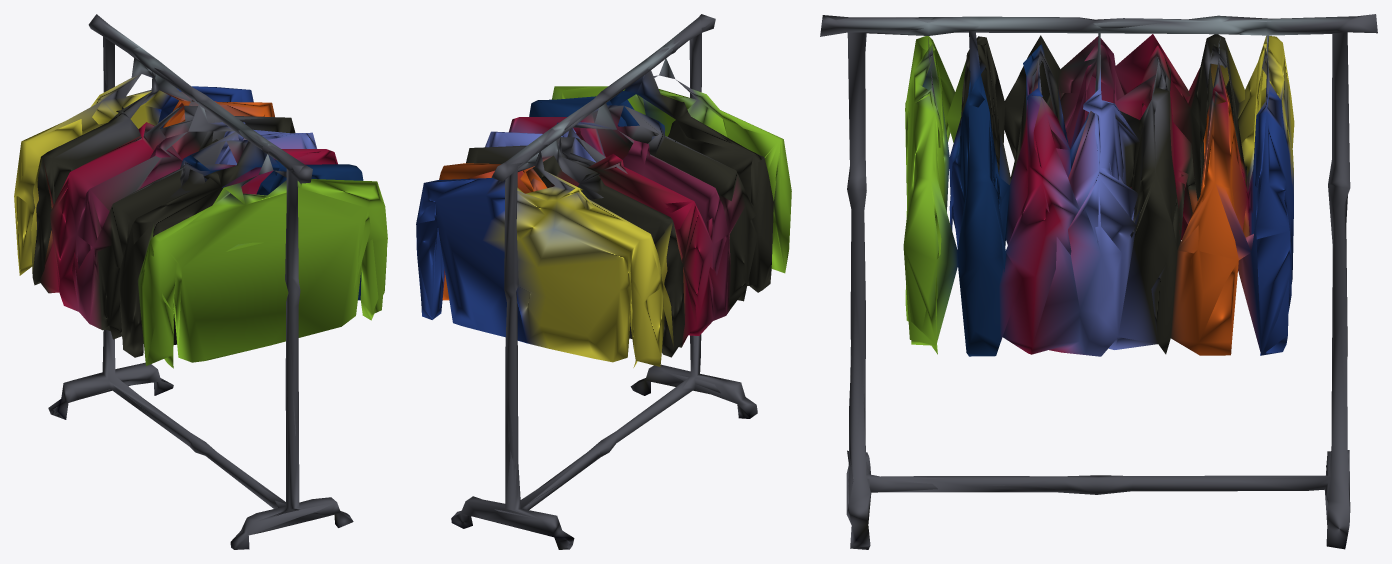
File: gen3d-clothing-rack-lod0.glb
3 renders of one model, left to right at view 1: azimuth 30°, elevation 25°; view 2: azimuth 150°, elevation 25°; view 3: azimuth 270°, elevation 25°, orthographic. The views are drawn at different scales.
Visible parts, largest first — view 1: part_0; view 2: part_0; view 3: part_0.
Part boxes in pixels (<box>): part_0: <box>14,14,387,549</box>; part_0: <box>416,14,791,549</box>; part_0: <box>820,14,1377,549</box>.
Bounding box in the file's own units: 0.6597 × 0.9951 × 0.9986.
